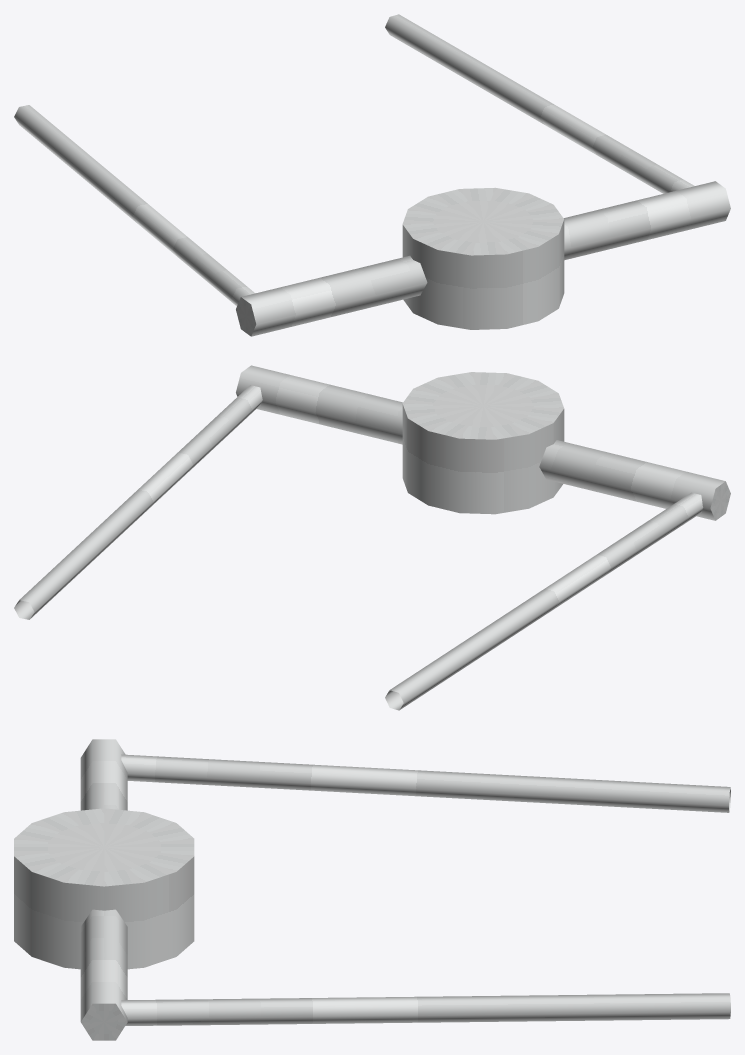
Rendered from nycsignalarm_regular8_c0_pedestal.obj.
The picture shows the model from 3 angles, top to bottom: view 1: azimuth 30°, elevation 25°; view 2: azimuth 150°, elevation 25°; view 3: azimuth 270°, elevation 25°; orthographic projection. The views are drawn at different scales.
Visible parts, largest first — view 1: nycsignalarm_regular8_c0_pedestal; view 2: nycsignalarm_regular8_c0_pedestal; view 3: nycsignalarm_regular8_c0_pedestal.
Boxes of the visible parts, bbox=[...] form: nycsignalarm_regular8_c0_pedestal: bbox=[14, 14, 730, 336]; nycsignalarm_regular8_c0_pedestal: bbox=[14, 365, 730, 710]; nycsignalarm_regular8_c0_pedestal: bbox=[14, 739, 730, 1040].
Size of the model in its own units: 1.5 by 0.225 by 1.72.
